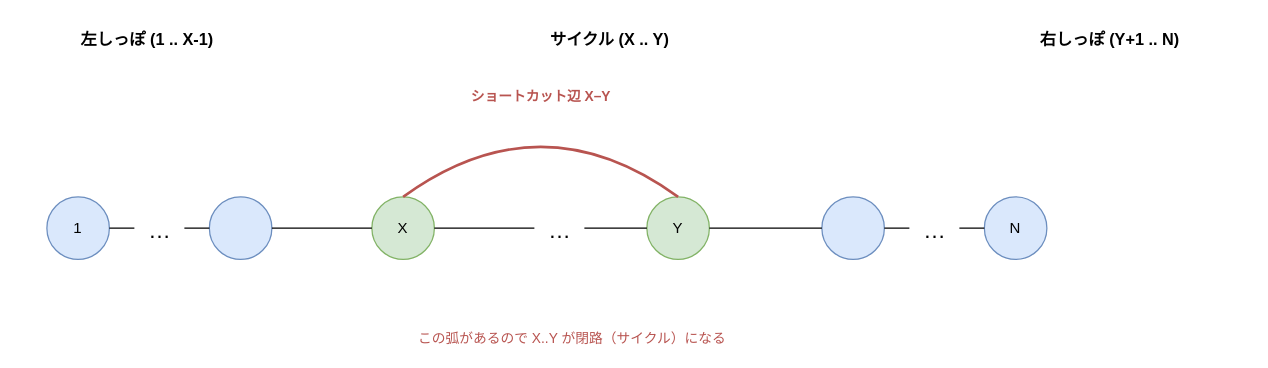
This 1268x368 diagram has some shape labels left out. The shapes that lost their labels are listed below. From the top down, each one's centre as x and y in pixels, then its label:
At (240,227): "X-1".
At (852,227): "Y+1".
